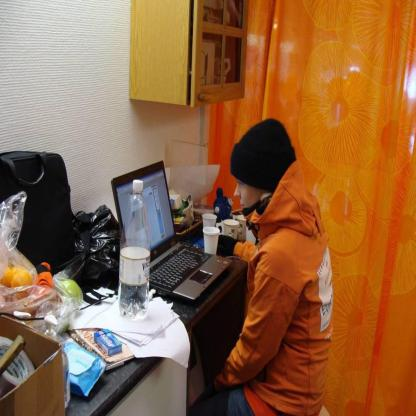board: (120, 174, 212, 308), (121, 179, 149, 317)
